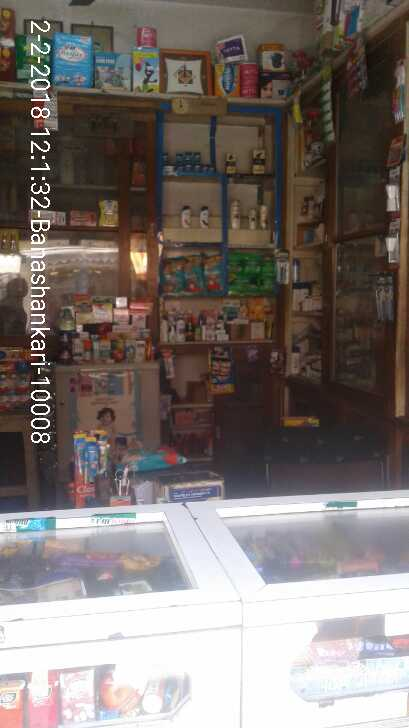beauty: (227, 250, 261, 285), (228, 198, 241, 229), (252, 147, 266, 174), (180, 205, 193, 231), (258, 204, 269, 230), (198, 205, 209, 230), (248, 206, 258, 232), (225, 152, 236, 174)
pharmacy: (204, 254, 225, 294), (183, 254, 203, 292), (161, 257, 182, 291), (192, 150, 201, 164), (175, 153, 184, 164), (161, 152, 169, 164), (184, 151, 192, 162)
